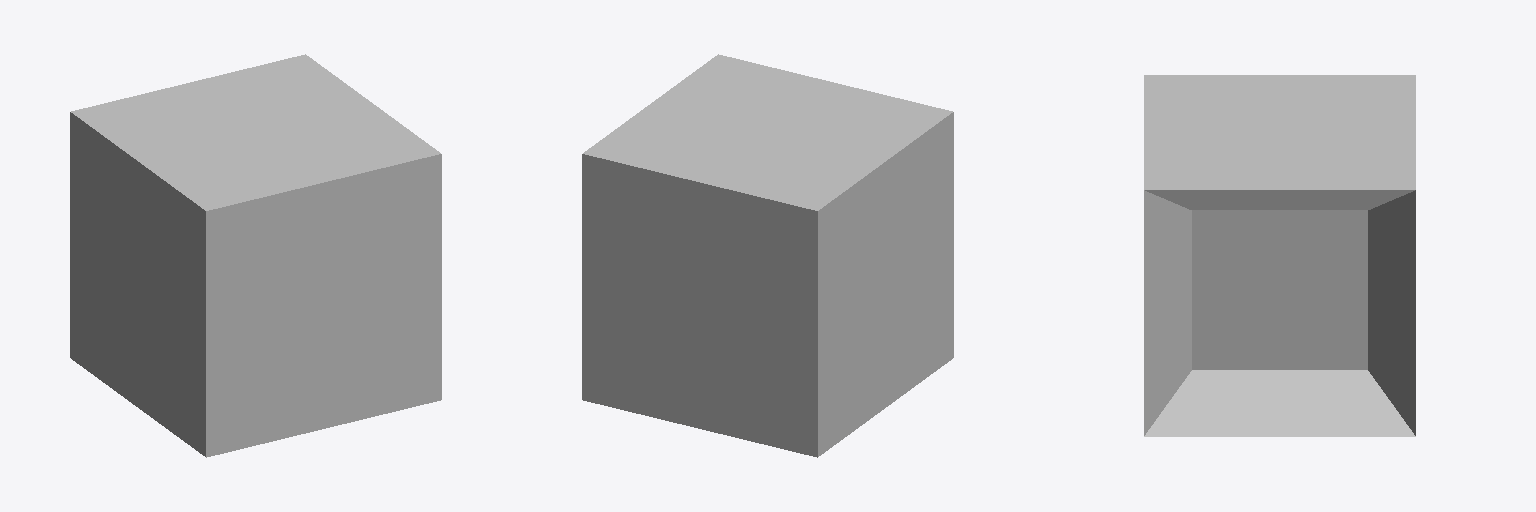
The model's file is ActivatorButton.obj.
3 views of the same model, side by side, from view 1: azimuth 30°, elevation 25°; view 2: azimuth 150°, elevation 25°; view 3: azimuth 270°, elevation 25° (orthographic).
Parts seen in each view (by area): view 1: Cube; view 2: Cube; view 3: Cube.
Boxes of the visible parts, x1,y1,x2,y2 form: Cube: [70, 54, 441, 457]; Cube: [582, 54, 953, 457]; Cube: [1144, 75, 1415, 436].
Bounding box in the file's own units: 1 × 1 × 1.